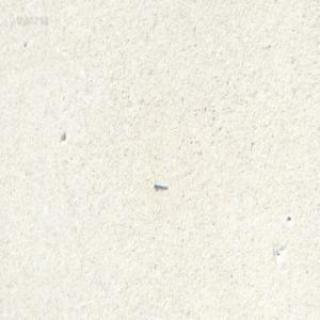Nailtrack_idkeyframe: (152, 179, 166, 188)
